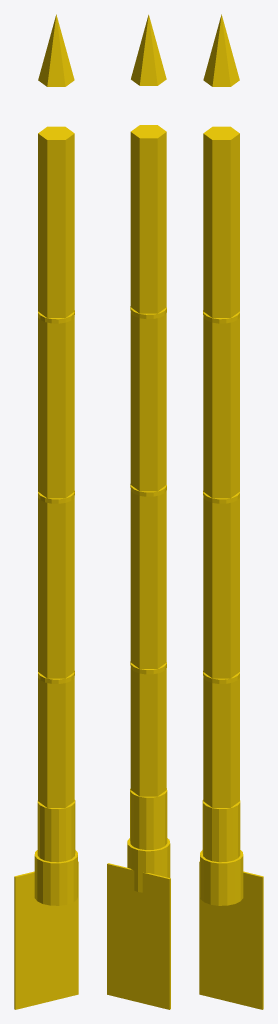
Rendered from Pencil.obj.
The picture shows the model from 3 angles, left to right: view 1: azimuth 30°, elevation 25°; view 2: azimuth 150°, elevation 25°; view 3: azimuth 330°, elevation 25°; orthographic projection.
Parts seen in each view (by area): view 1: Pencil; view 2: Pencil; view 3: Pencil.
Part boxes in pixels (<box>): Pencil: <box>14,14,78,1009</box>; Pencil: <box>107,14,170,1009</box>; Pencil: <box>199,14,263,1009</box>.
Bounding box in the file's own units: 0.015 × 0.225 × 0.009.
